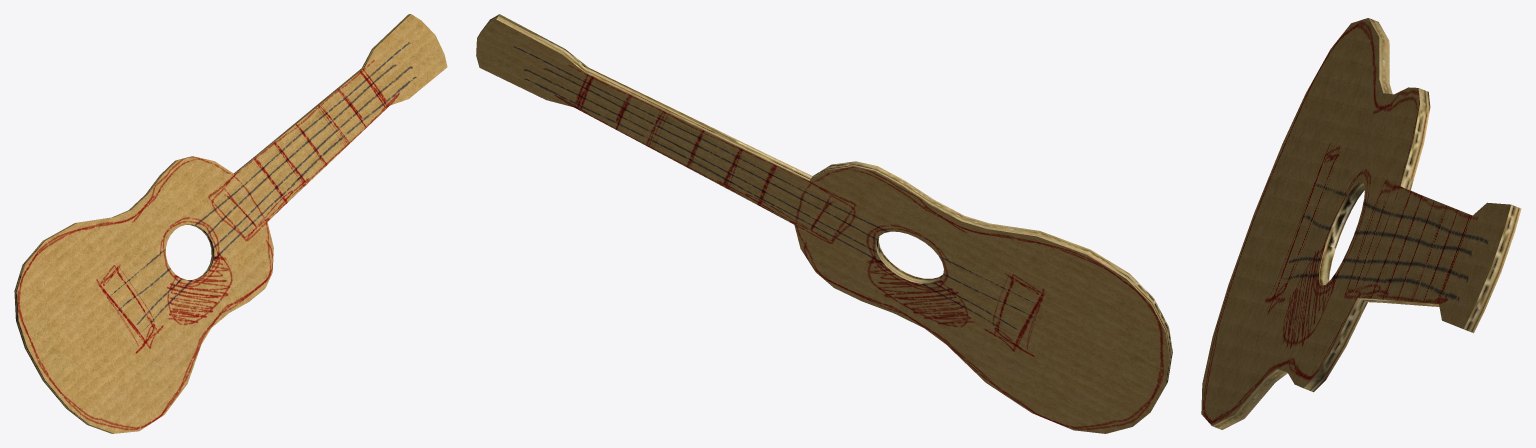
The model's file is cardboard_guitar.glb.
3 views of the same model, side by side, from view 1: azimuth 30°, elevation 25°; view 2: azimuth 150°, elevation 25°; view 3: azimuth 270°, elevation 25° (orthographic). The views are drawn at different scales.
Parts seen in each view (by area): view 1: Object_2.001; view 2: Object_2.001; view 3: Object_2.001.
Part boxes in pixels (x1,y1,x2,y2): Object_2.001: (14, 14, 447, 433); Object_2.001: (476, 14, 1172, 433); Object_2.001: (1201, 18, 1521, 429).
Size of the model in its own units: 27.12 by 15.35 by 8.03.
1 material, 1 textured.
